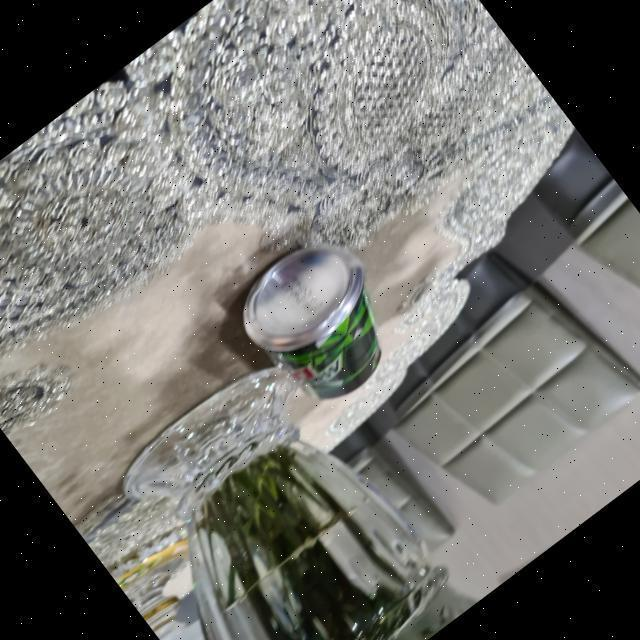can: (212, 212, 427, 430)
